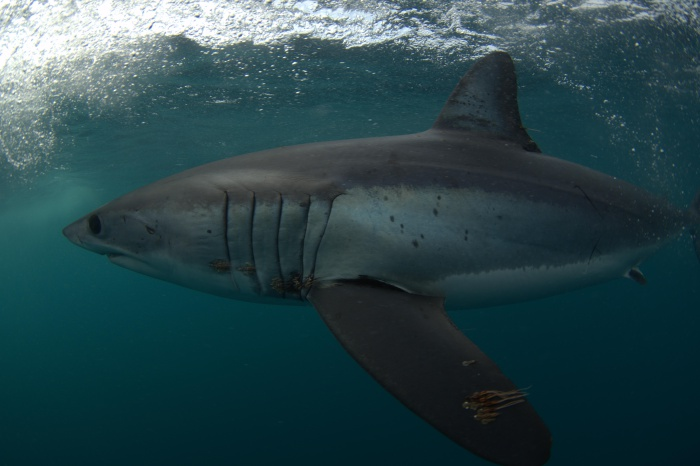Mako: (61, 47, 700, 464)
